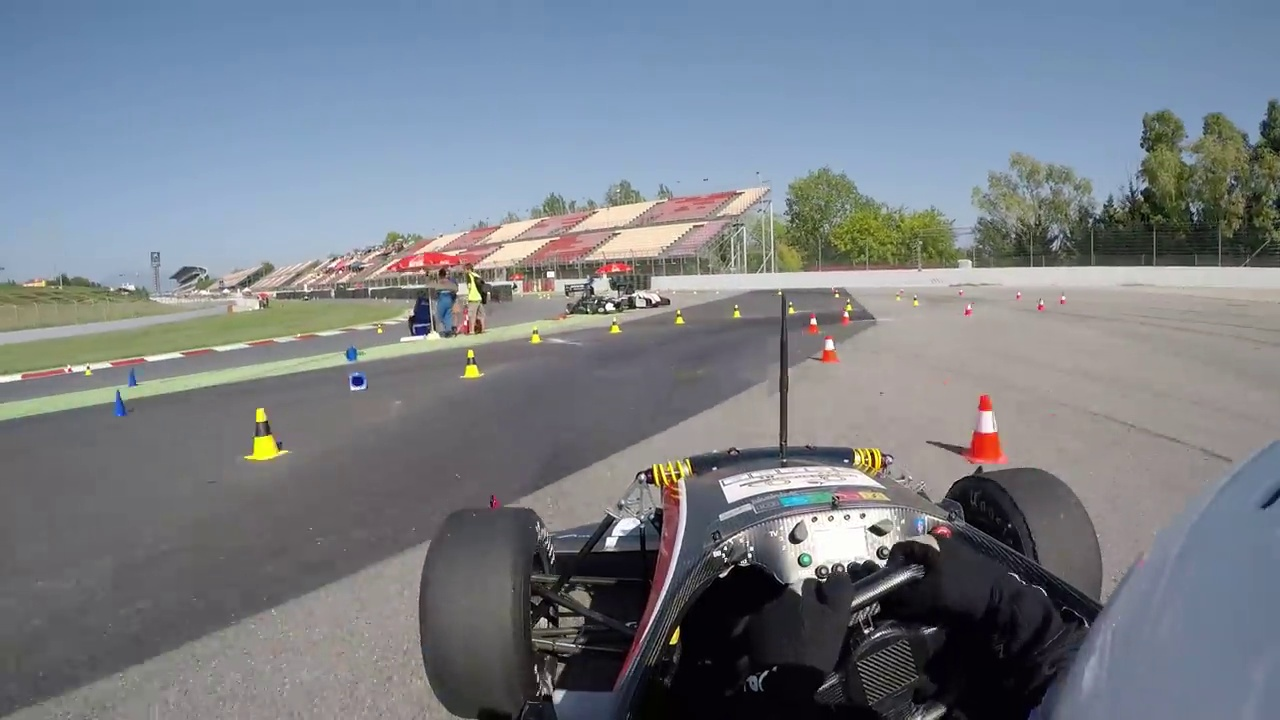Cone: (965, 390, 1007, 464), (248, 404, 285, 459), (462, 345, 485, 379), (822, 332, 841, 363)
